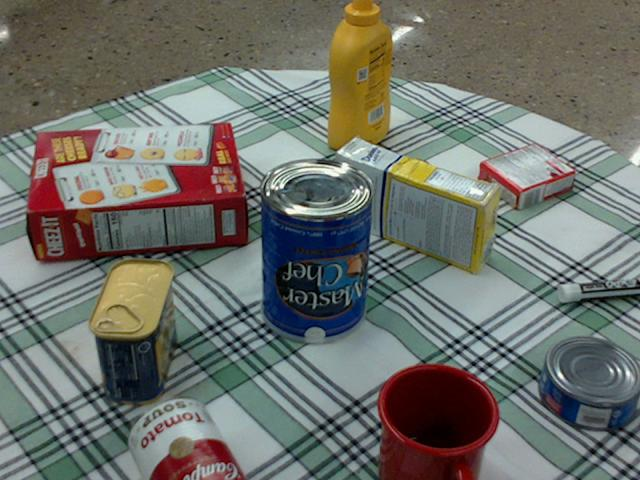cracker_box: (27, 123, 244, 259)
gelatin_box: (477, 144, 574, 210)
large_marker: (558, 279, 639, 302)
master_chef_can: (260, 157, 374, 342)
mug: (373, 364, 497, 479)
mustard_bottle: (326, 0, 392, 152)
potted_meat_can: (88, 258, 175, 404)
sugar_box: (333, 139, 501, 273)
tomato_soup_can: (127, 397, 242, 479)
tuna_fish_can: (539, 337, 639, 431)
